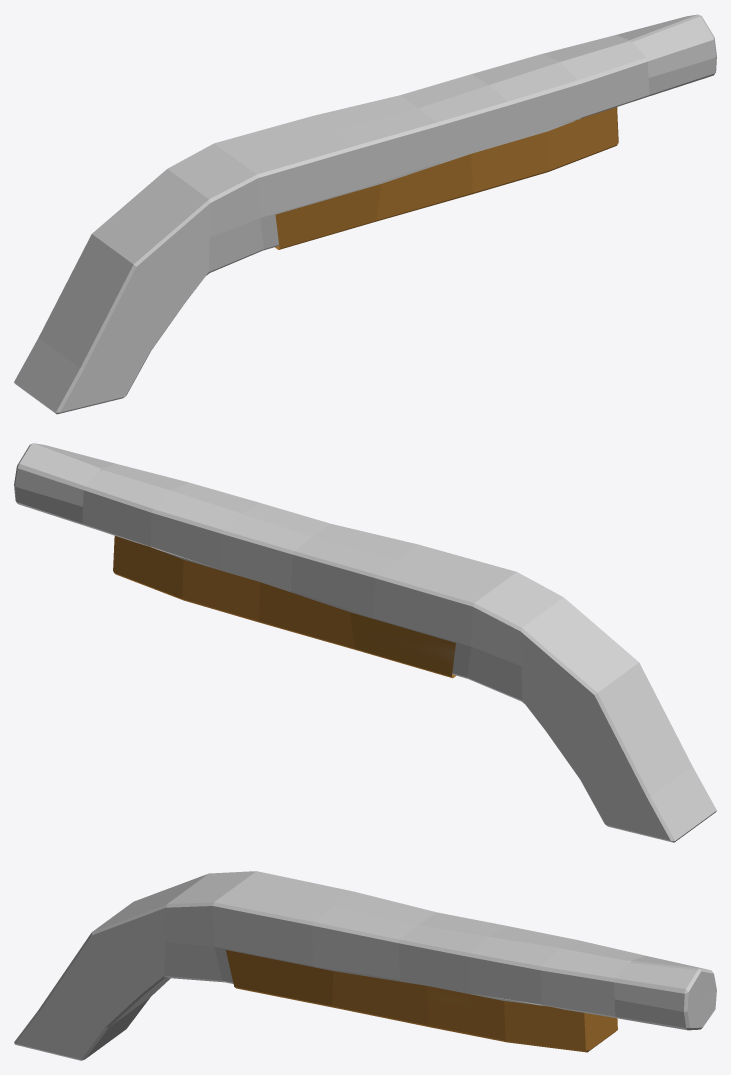
File: shotgun com cor.fbx
3 views of the same model, one above another, from view 1: azimuth 30°, elevation 25°; view 2: azimuth 150°, elevation 25°; view 3: azimuth 330°, elevation 25° (orthographic).
Parts seen in each view (by area): view 1: Cube, Cube.001; view 2: Cube, Cube.001; view 3: Cube, Cube.001.
Part boxes in pixels (x1=…): Cube: x1=14, y1=14, x2=716, y2=414; Cube.001: x1=275, y1=107, x2=618, y2=249; Cube: x1=14, y1=443, x2=716, y2=842; Cube.001: x1=113, y1=536, x2=455, y2=678; Cube: x1=14, y1=871, x2=716, y2=1060; Cube.001: x1=226, y1=950, x2=617, y2=1052.
Size of the model in its own units: 2831 by 898 by 361.
1 material, 1 textured.
